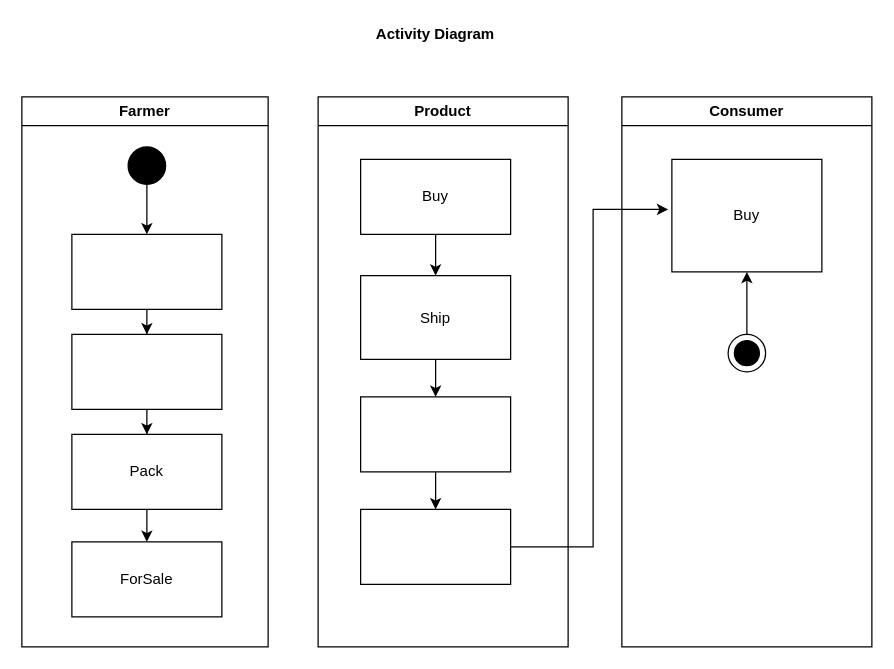
This 894x669 diagram has some shape labels left out. The shapes that lost their labels are listed below. From the top down, each one's box as (x1, y1, x2, y2) in pixels, then its label:
(71, 233, 222, 309): Harvest
(71, 333, 222, 409): Process
(359, 396, 511, 472): Receive
(359, 508, 511, 584): Purchase
